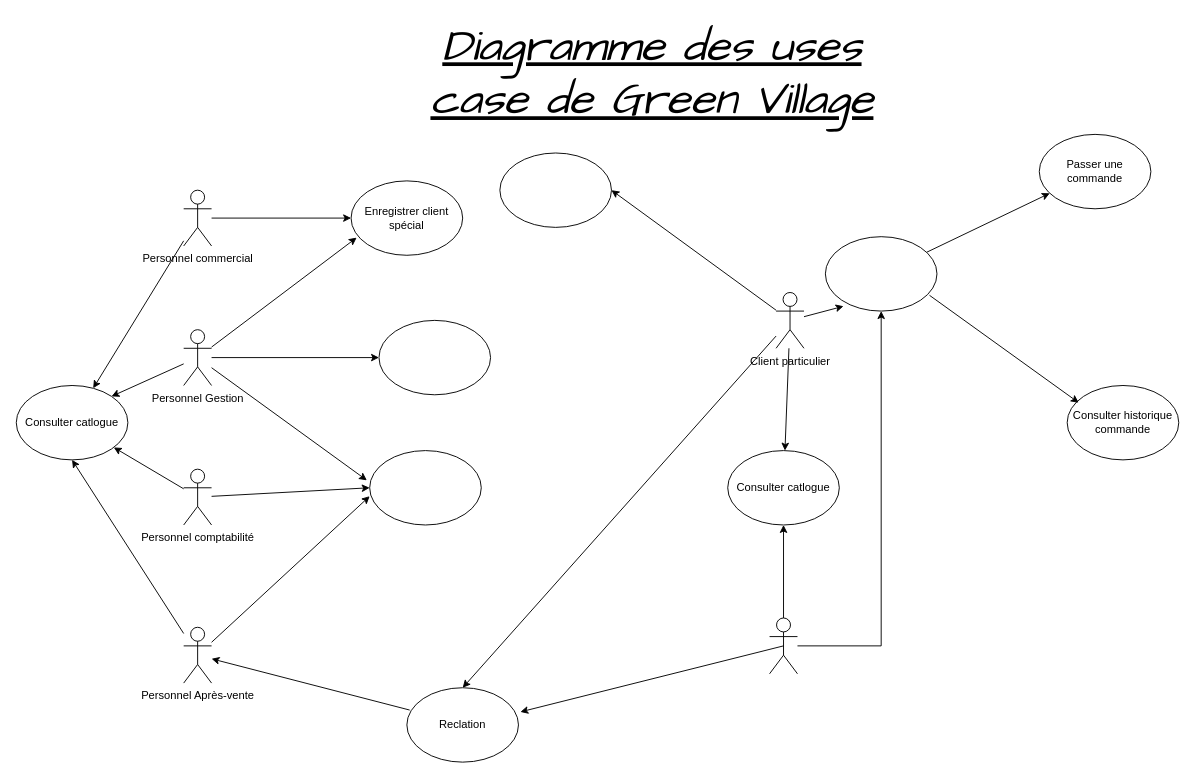
Image size: 1195x778. Some labels were removed from this diagram. The shapes that lost their labels are listed below. From the top down, each one's centre as x and y in pixels, then its label:
At point (555, 189): "Enregistrer client particulier".
At point (880, 273): "Connexion client".
At point (434, 357): "Ajout/suppresion Sous-catégorie Article".
At point (425, 487): "Edition facture".
At point (783, 645): "Client spécial".
